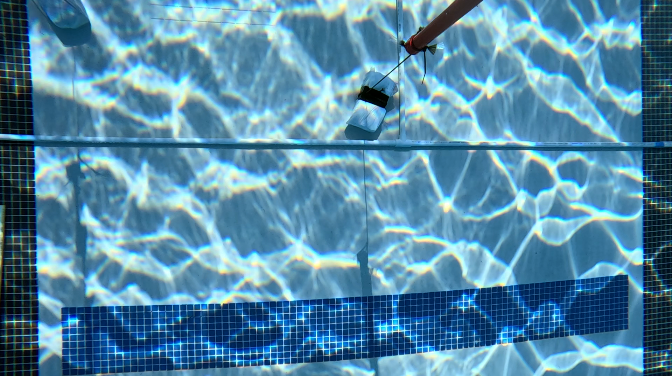sandbag: (347, 70, 394, 131)
